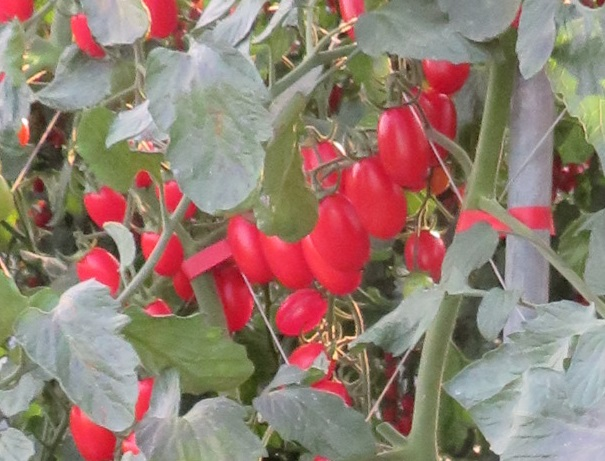red: (337, 150, 405, 235), (312, 189, 370, 268), (376, 104, 429, 186), (416, 86, 459, 167), (222, 212, 262, 291), (266, 217, 305, 296), (209, 266, 254, 333), (137, 217, 187, 277), (272, 288, 331, 337), (69, 404, 117, 461), (78, 181, 128, 234), (403, 225, 447, 278), (419, 58, 472, 97), (78, 248, 123, 293), (288, 342, 335, 379), (139, 1, 181, 41), (1, 1, 36, 25)
